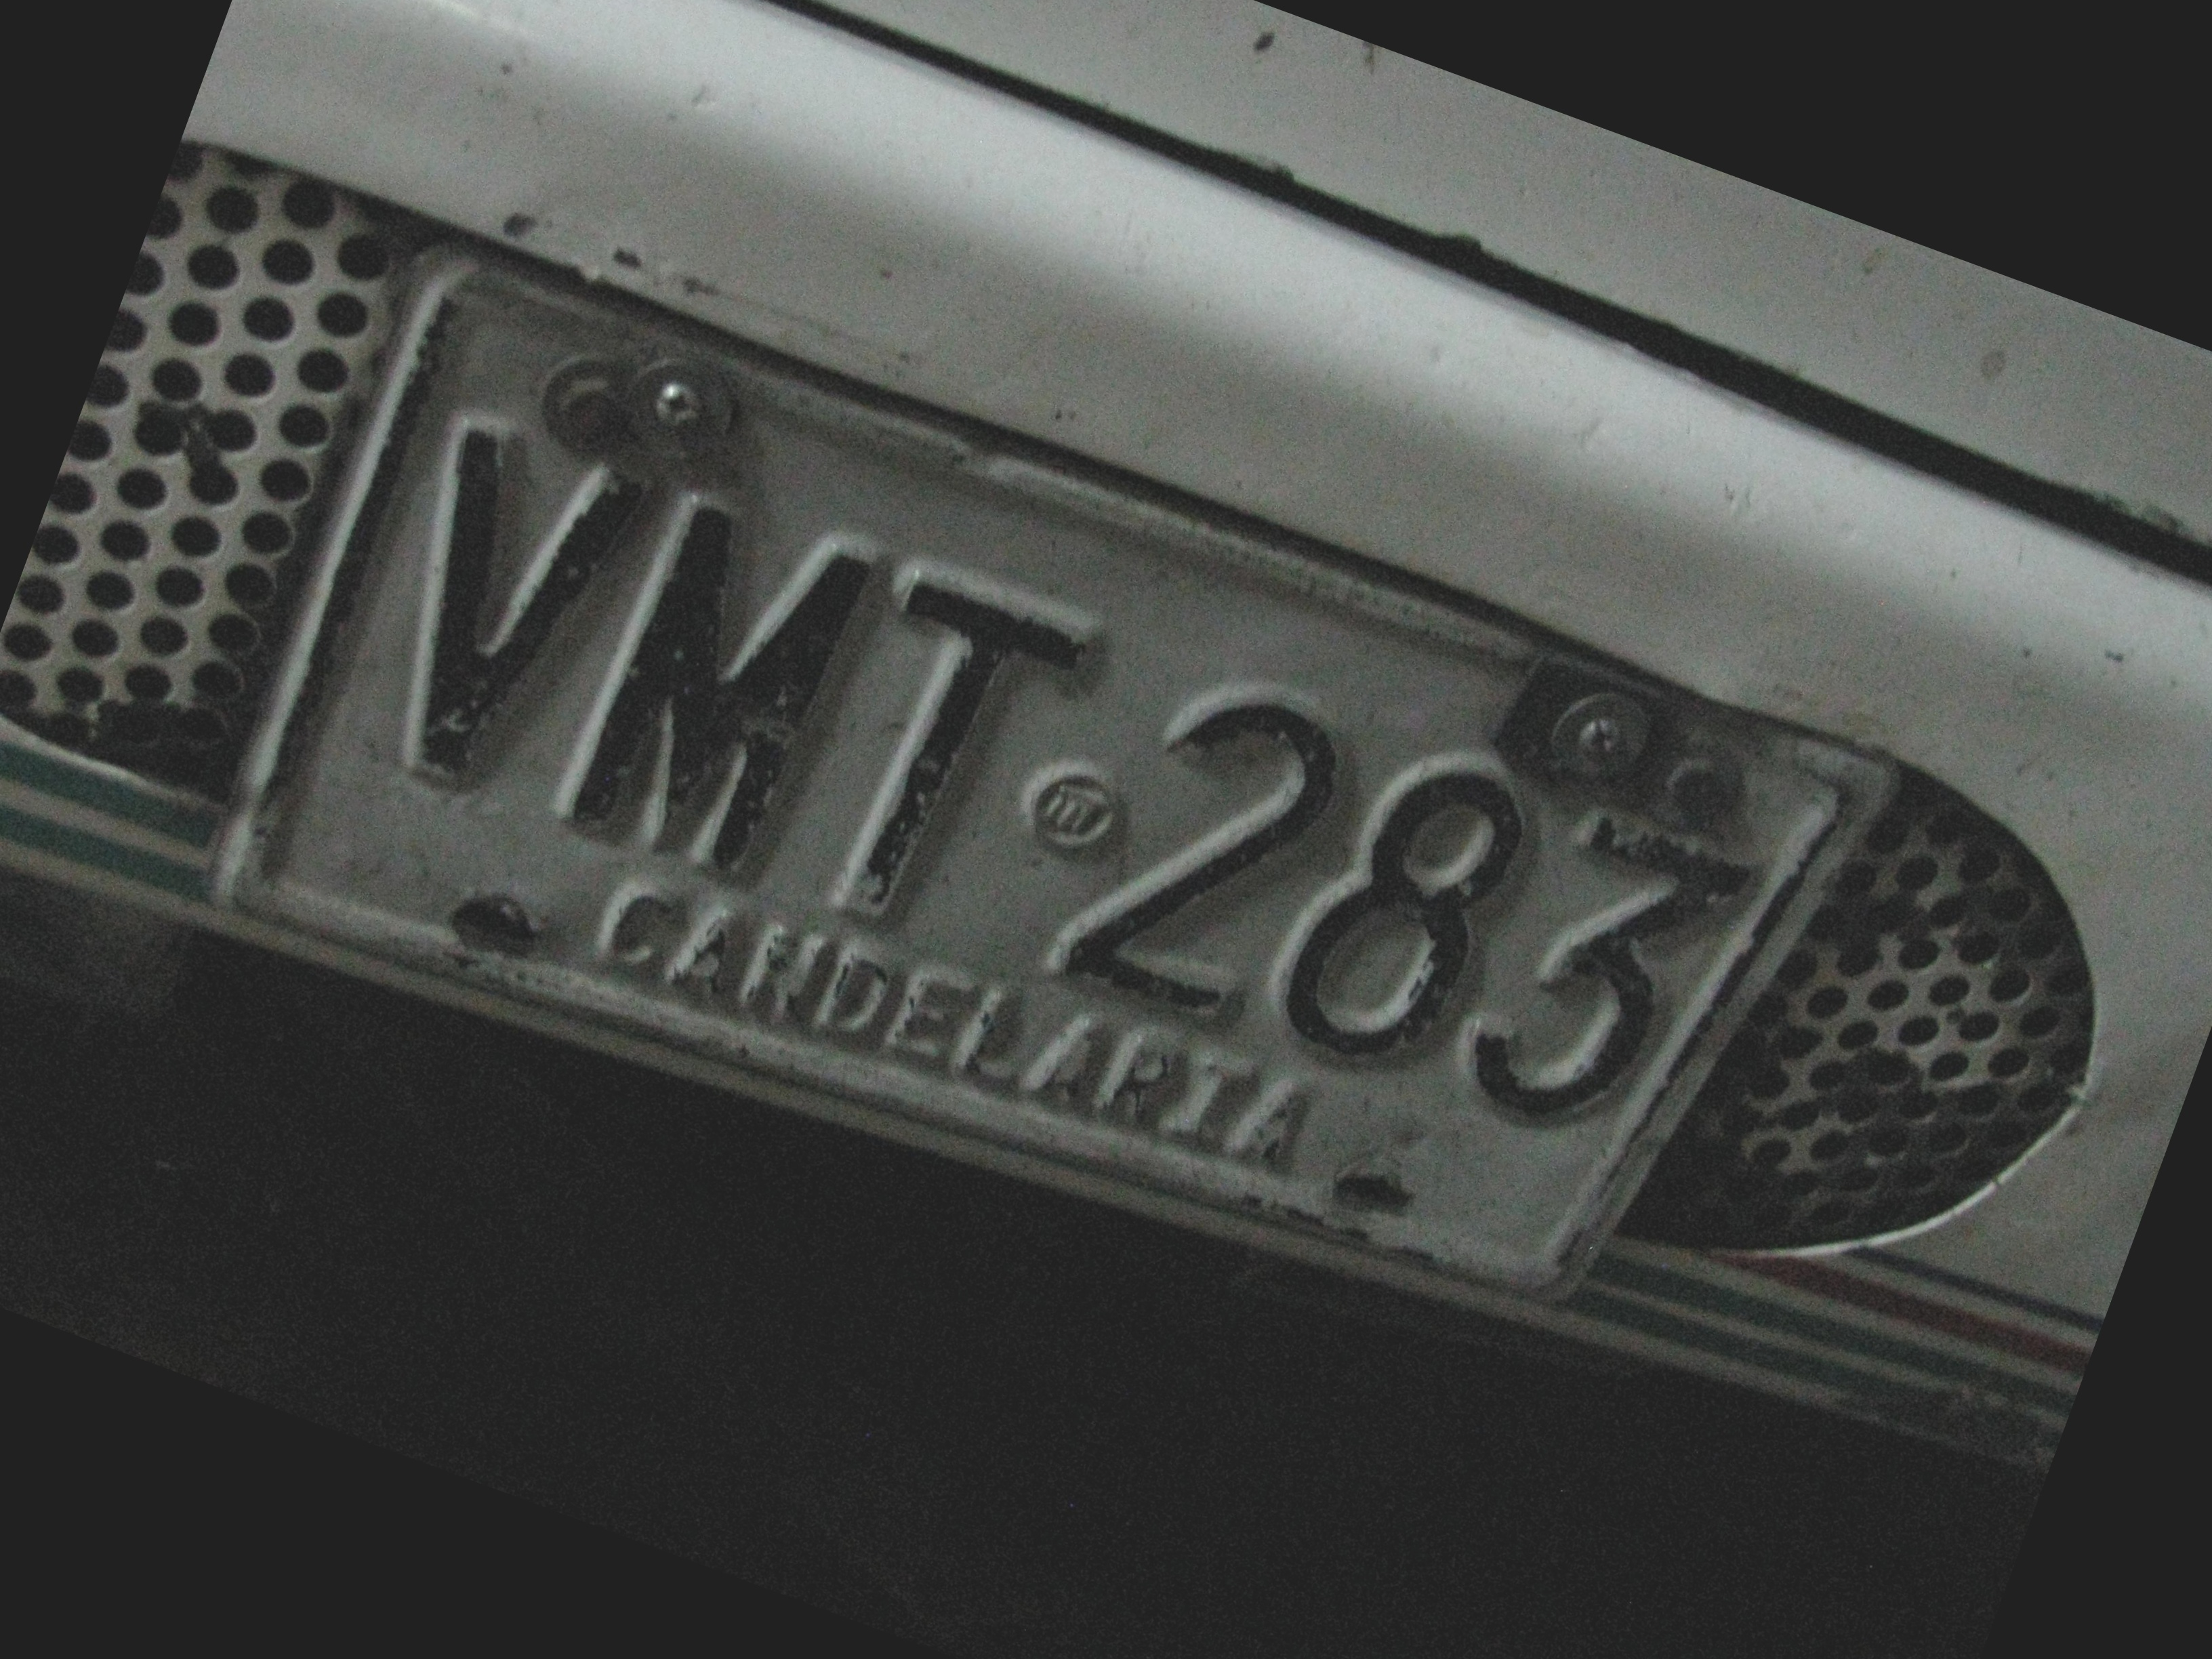placas: (167, 210, 1902, 1433)
